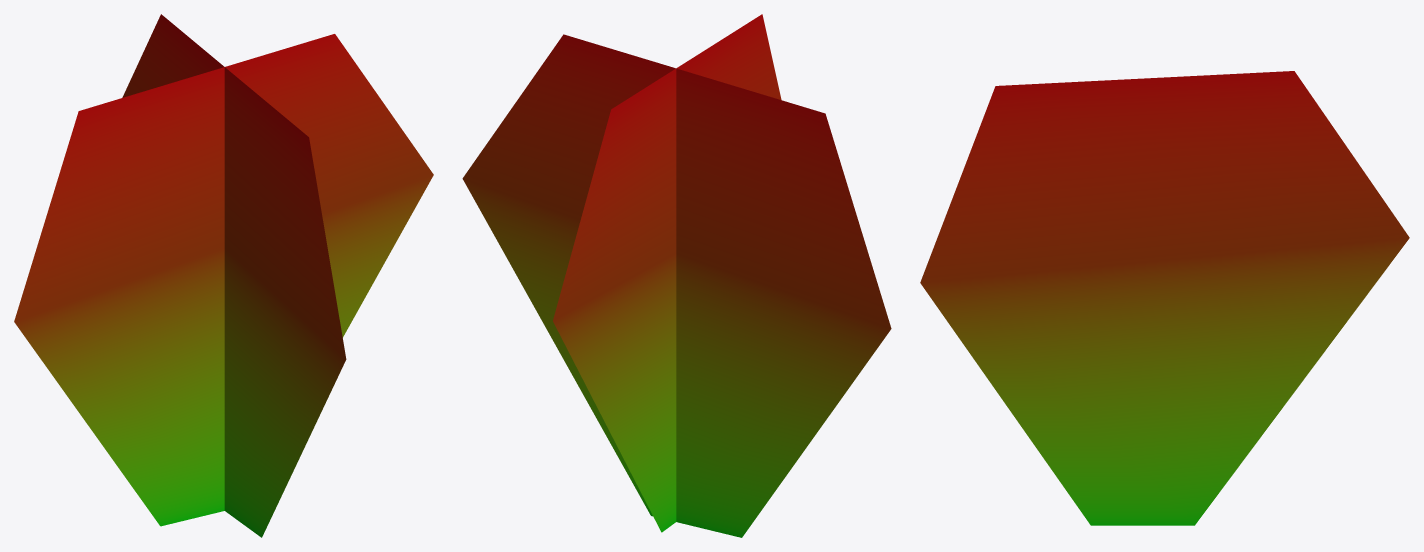
File: Var2_LOD5.fbx
3 views of the same model, side by side, from view 1: azimuth 30°, elevation 25°; view 2: azimuth 150°, elevation 25°; view 3: azimuth 270°, elevation 25° (orthographic). The views are drawn at different scales.
Parts seen in each view (by area): view 1: _z2eb_Var2_LOD5; view 2: _z2eb_Var2_LOD5; view 3: _z2eb_Var2_LOD5.
Part boxes in pixels (box(x1,y1,x2,y2)): _z2eb_Var2_LOD5: box(14, 14, 433, 537); _z2eb_Var2_LOD5: box(462, 14, 891, 537); _z2eb_Var2_LOD5: box(920, 71, 1409, 525).
Size of the model in its own units: 79.19 by 81.18 by 79.19.
